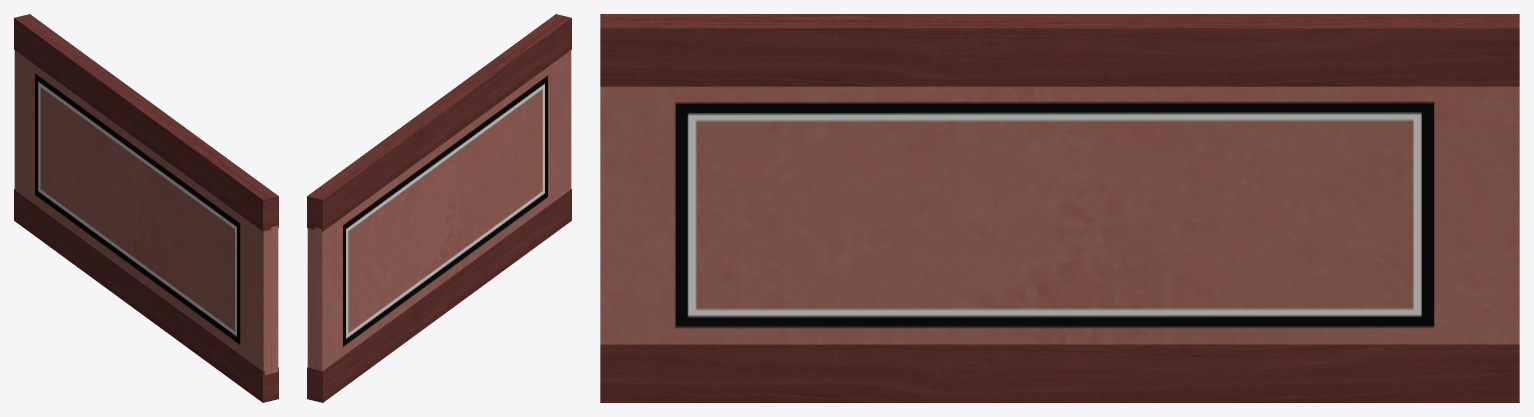
The model's file is SM_Wall03E.fbx.
The picture shows the model from 3 angles, left to right: view 1: azimuth 30°, elevation 25°; view 2: azimuth 150°, elevation 25°; view 3: azimuth 270°, elevation 25°; orthographic projection. The views are drawn at different scales.
Parts seen in each view (by area): view 1: SM_Wall03E; view 2: SM_Wall03E; view 3: SM_Wall03E.
Part boxes in pixels (x1,y1,x2,y2): SM_Wall03E: [14, 14, 278, 402]; SM_Wall03E: [307, 14, 571, 402]; SM_Wall03E: [600, 14, 1519, 402].
Bounding box in the file's own units: 8.99 × 245 × 110.
